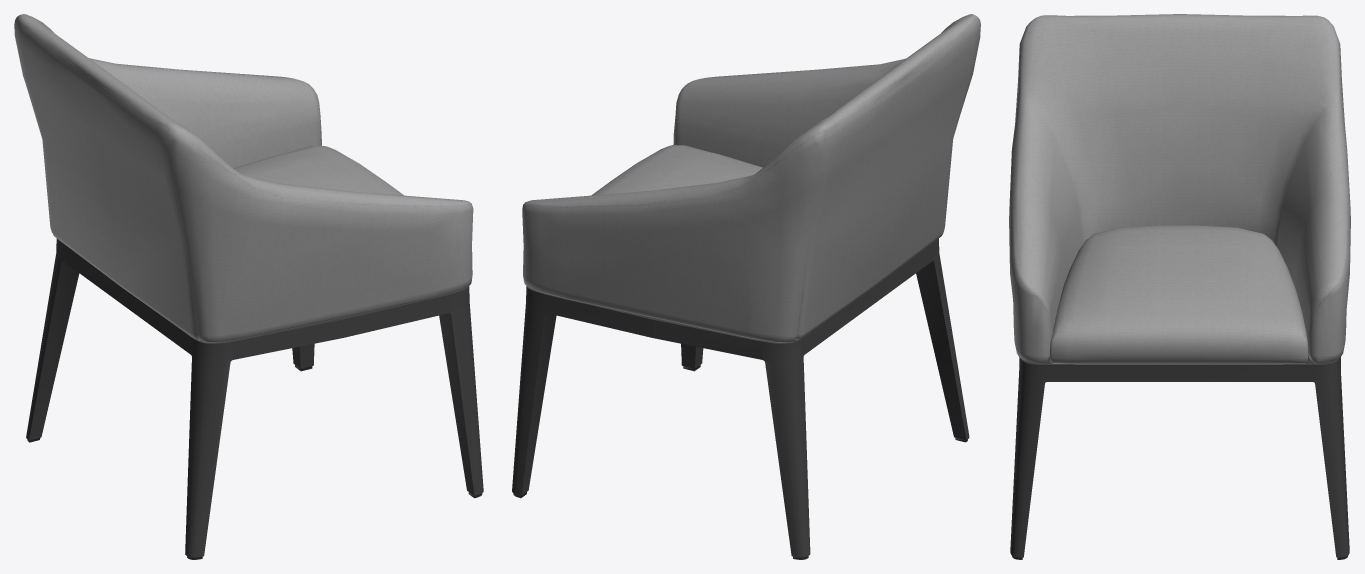
The model's file is lounge_chair.gltf.
3 views of the same model, side by side, from view 1: azimuth 30°, elevation 25°; view 2: azimuth 150°, elevation 25°; view 3: azimuth 270°, elevation 25° (orthographic). The views are drawn at different scales.
Visible parts, largest first — view 1: SM_Modern_Chair_1; view 2: SM_Modern_Chair_1; view 3: SM_Modern_Chair_1.
Boxes of the visible parts, x1,y1,x2,y2 form: SM_Modern_Chair_1: (14, 14, 483, 559); SM_Modern_Chair_1: (512, 14, 980, 559); SM_Modern_Chair_1: (1009, 14, 1350, 559).
Size of the model in its own units: 0.6375 by 0.8508 by 0.6465.
1 material, 1 textured.
